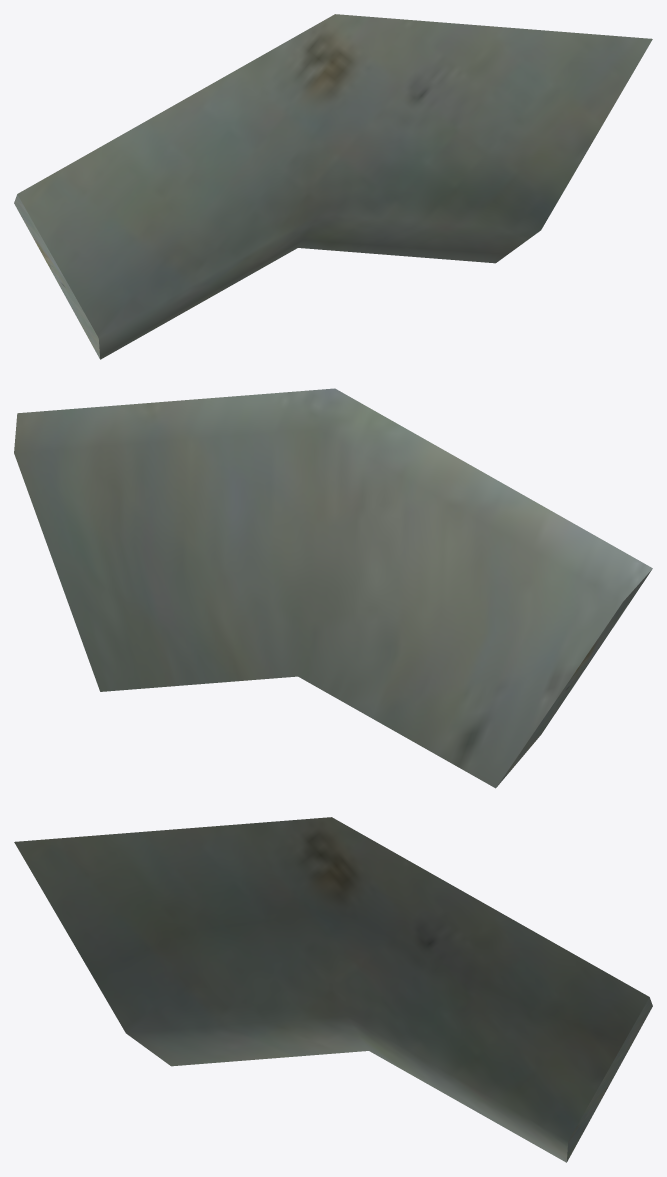
File: prop_diningplate_brokenplain1.glb
3 renders of one model, top to bottom at view 1: azimuth 30°, elevation 25°; view 2: azimuth 150°, elevation 25°; view 3: azimuth 330°, elevation 25°, orthographic.
Bounding box in the file's own units: 6.42 × 3.13 × 0.6492.
1 material, 1 textured.
